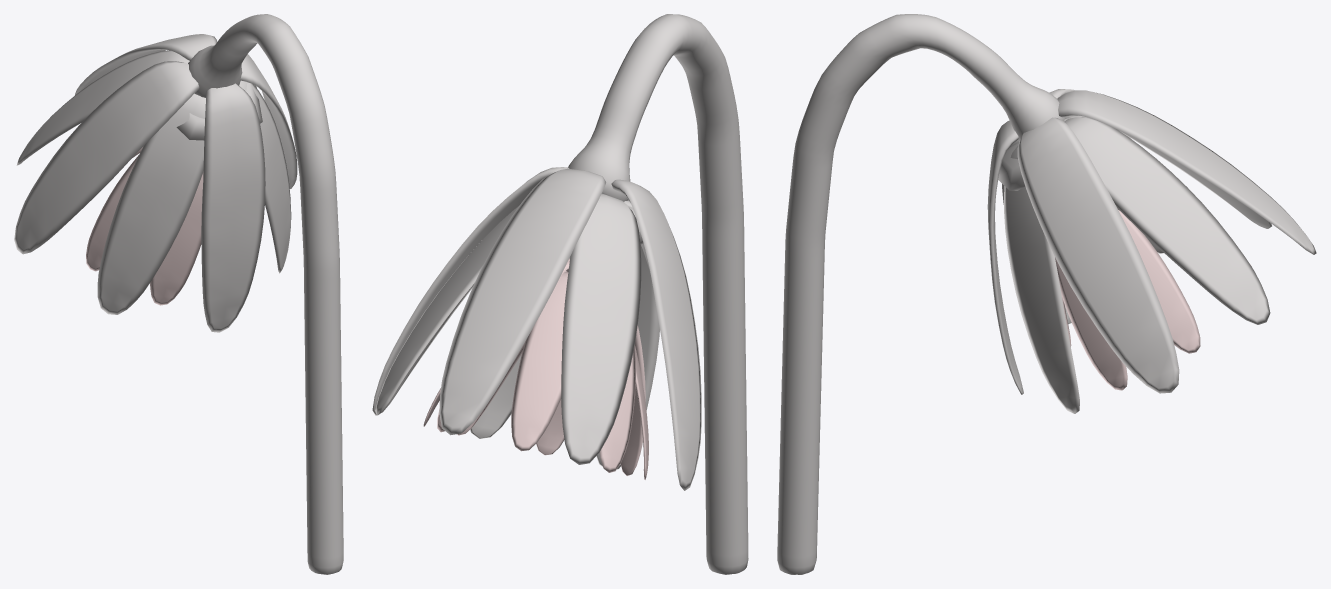
File: WiltedFlower.fbx
The picture shows the model from 3 angles, left to right: view 1: azimuth 30°, elevation 25°; view 2: azimuth 150°, elevation 25°; view 3: azimuth 270°, elevation 25°; orthographic projection. The views are drawn at different scales.
Parts seen in each view (by area): view 1: Lower_Pettals, Stem.004, Upper_Pettals, Bulb.008; view 2: Lower_Pettals, Stem.004, Upper_Pettals; view 3: Lower_Pettals, Stem.004, Upper_Pettals, Bulb.008.
Part boxes in pixels (box(x1,y1,x2,y2)): Lower_Pettals: box(14, 34, 297, 332); Stem.004: box(188, 14, 343, 574); Upper_Pettals: box(86, 147, 203, 305); Bulb.008: box(176, 82, 262, 140); Lower_Pettals: box(372, 167, 701, 490); Stem.004: box(568, 14, 748, 574); Upper_Pettals: box(423, 258, 648, 479); Lower_Pettals: box(987, 89, 1316, 413); Stem.004: box(777, 14, 1064, 574); Upper_Pettals: box(1055, 208, 1251, 390); Bulb.008: box(998, 115, 1085, 190).
Bounding box in the file's own units: 11.66 × 21.45 × 18.94.
